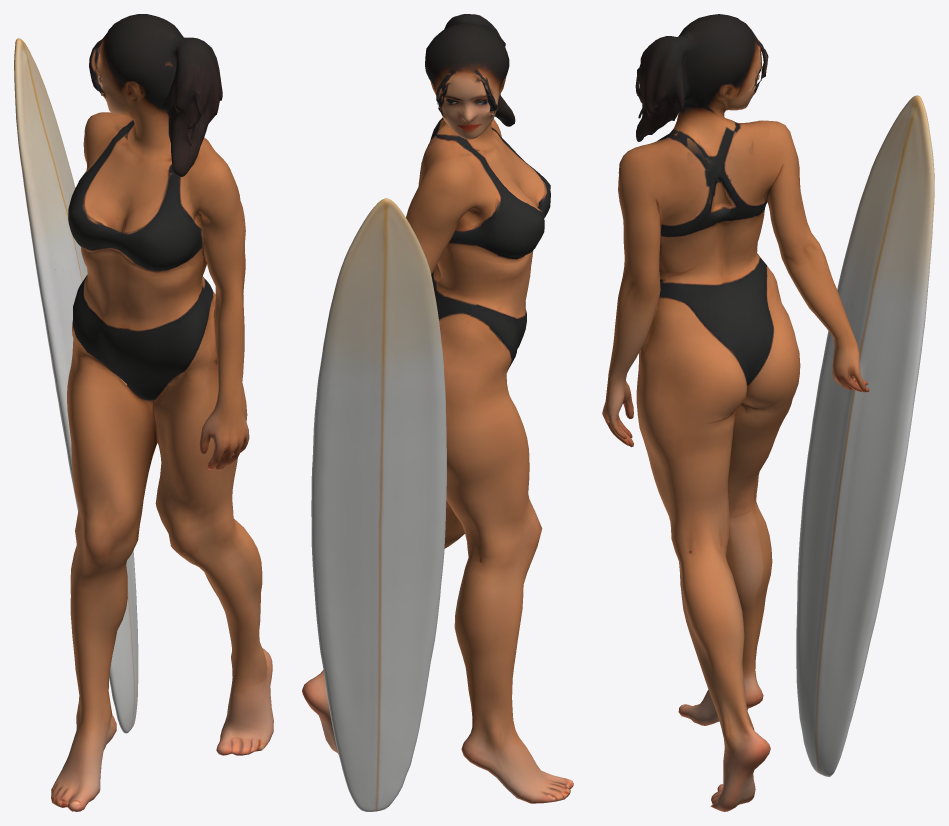
The model's file is female_surfer.glb.
3 renders of one model, left to right at view 1: azimuth 30°, elevation 25°; view 2: azimuth 150°, elevation 25°; view 3: azimuth 270°, elevation 25°, orthographic. The views are drawn at different scales.
Visible parts, largest first — view 1: tripo_node_503e4845-b9cd-4f4d-94db-a4da5eaf46bd; view 2: tripo_node_503e4845-b9cd-4f4d-94db-a4da5eaf46bd; view 3: tripo_node_503e4845-b9cd-4f4d-94db-a4da5eaf46bd.
Boxes of the visible parts, bbox=[...] form: tripo_node_503e4845-b9cd-4f4d-94db-a4da5eaf46bd: bbox=[14, 14, 273, 811]; tripo_node_503e4845-b9cd-4f4d-94db-a4da5eaf46bd: bbox=[302, 14, 573, 811]; tripo_node_503e4845-b9cd-4f4d-94db-a4da5eaf46bd: bbox=[602, 14, 934, 811].
Bounding box in the file's own units: 0.5528 × 1.67 × 0.6814.
1 material, 1 textured.
